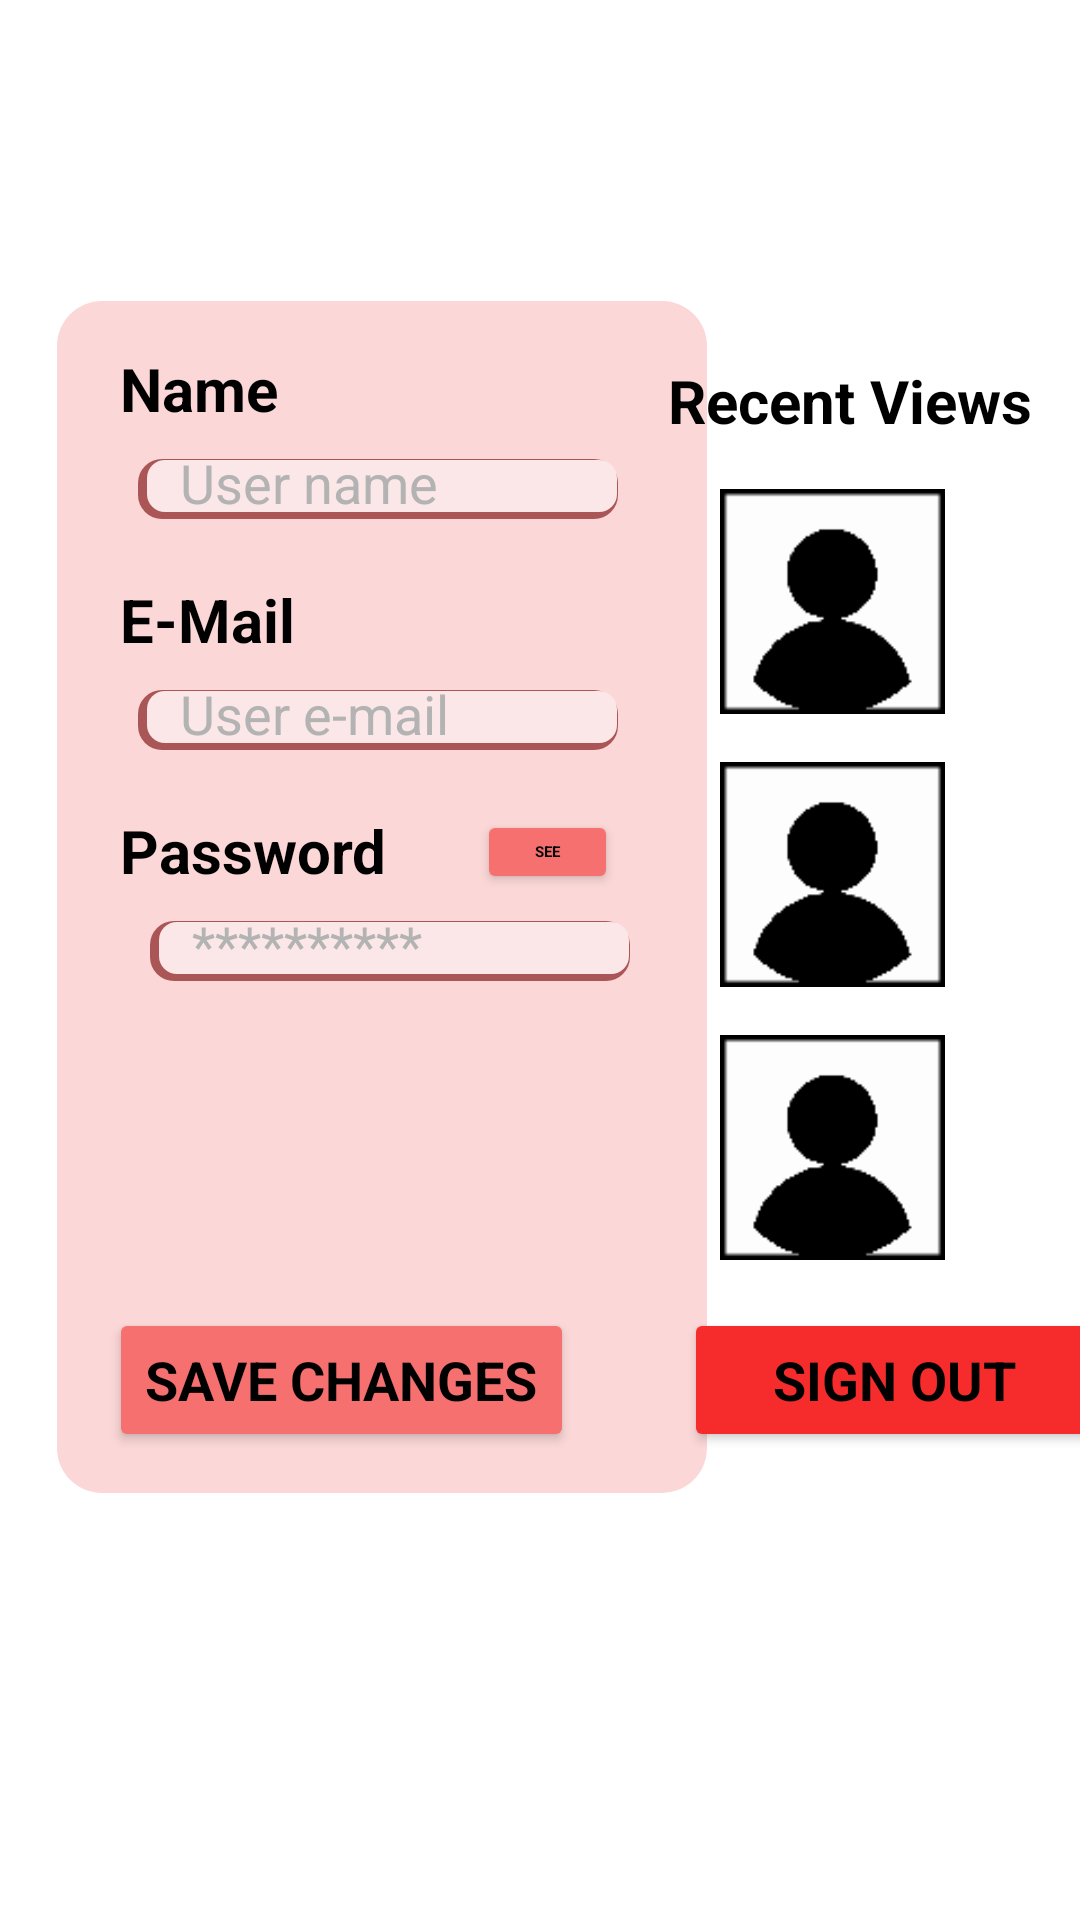

Screen size 1080 x 1920. Icon name, then its center in pixels as (x=x, y=y):
foto usuario chat: (x=832, y=601), (x=832, y=874), (x=832, y=1147)
